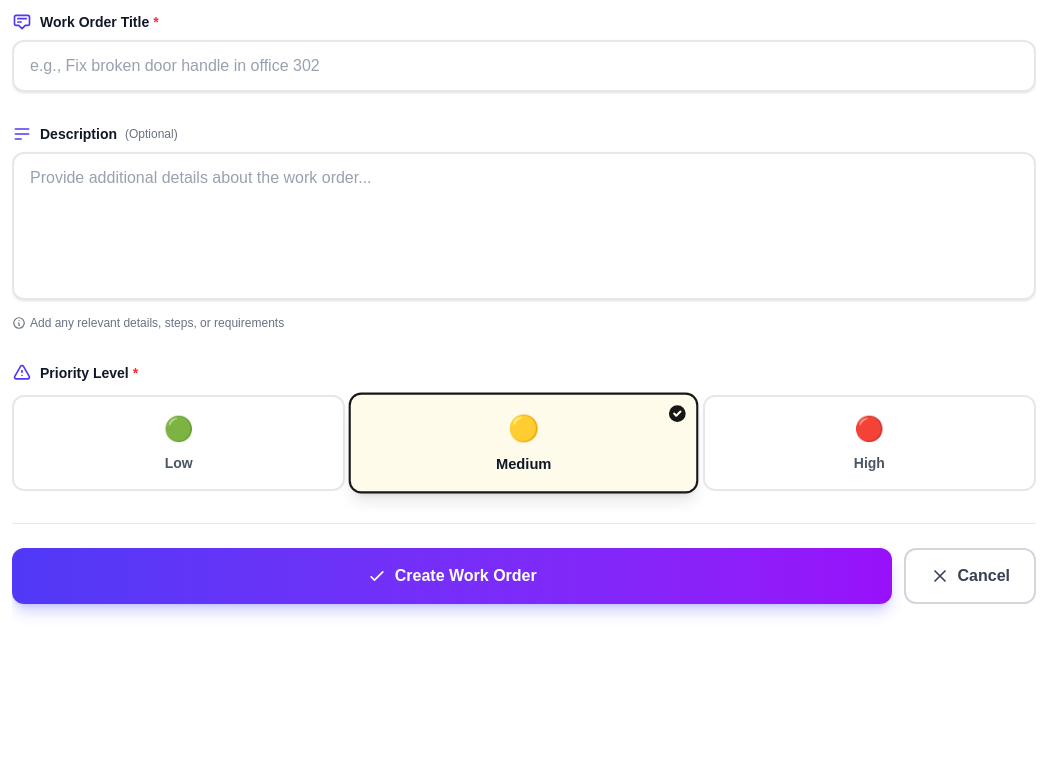
WorkOrderForm › Create Mode › displays general error message
The image size is (1048, 780).
Type "Test Title" into the field labelled "Work Order Title *". click: x=524, y=66
box: [12,40,1036,92]
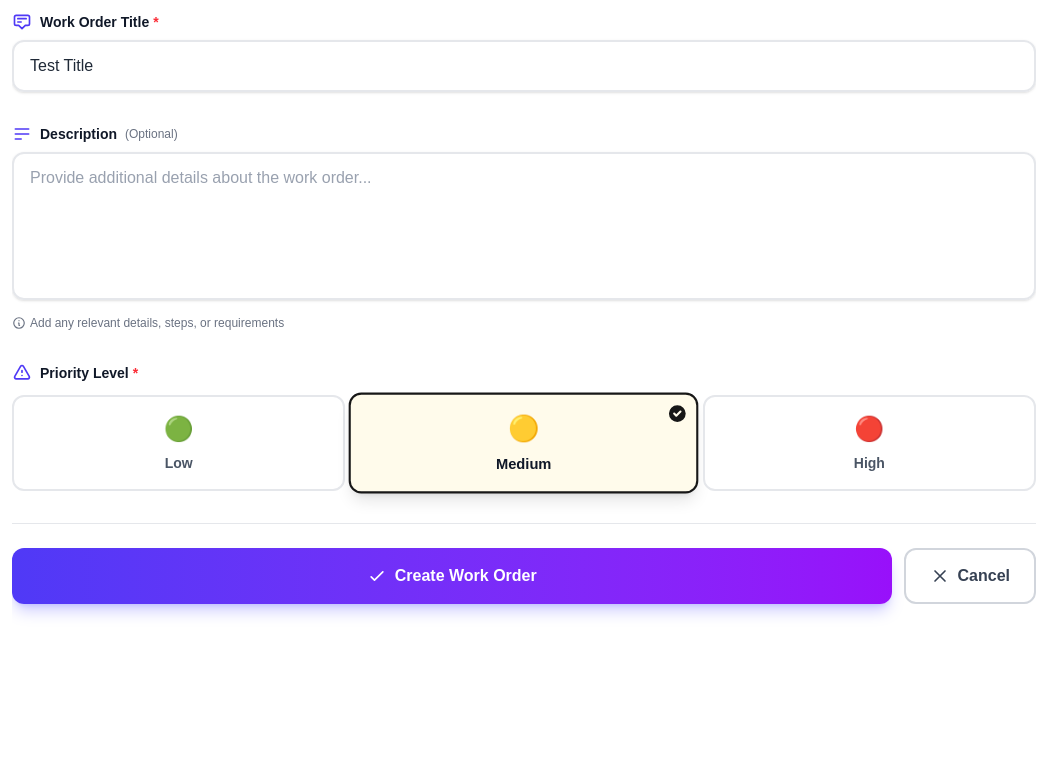
Type "Test description" into the text box labelled "Description (Optional)". click: x=524, y=226
box: [12,152,1036,300]
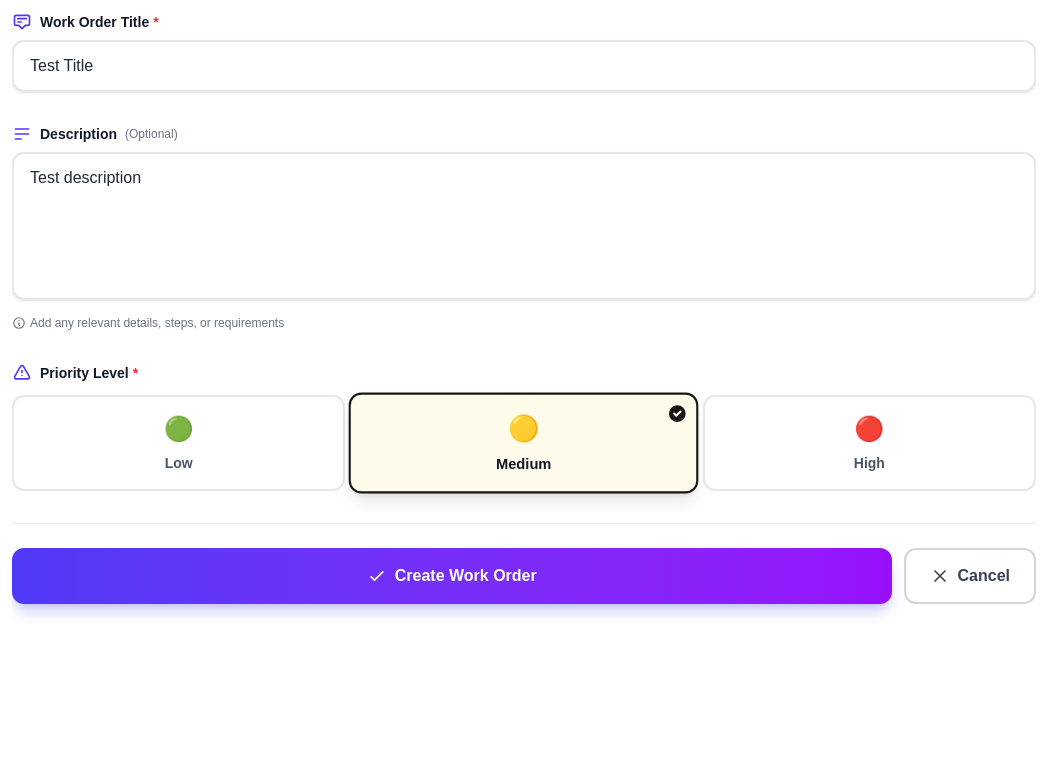
Click the button "Create Work Order". click: x=452, y=576
box: [12,548,892,604]
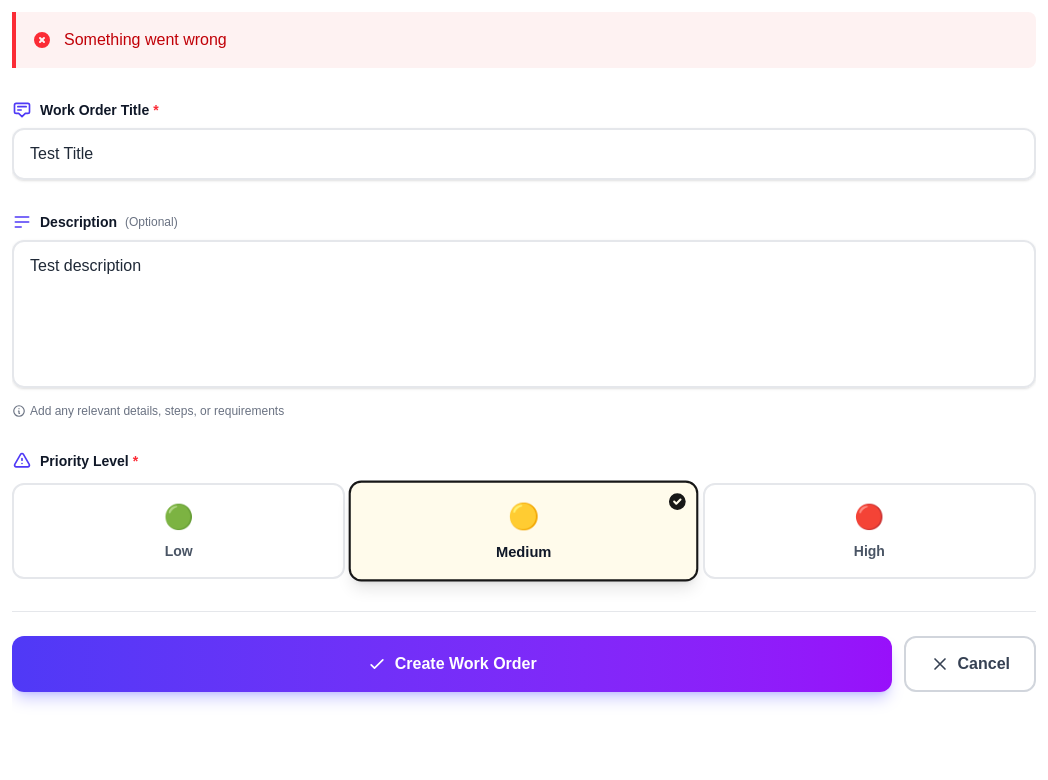
Now the text "Something went wrong" is shown, box [64,28,227,52]
